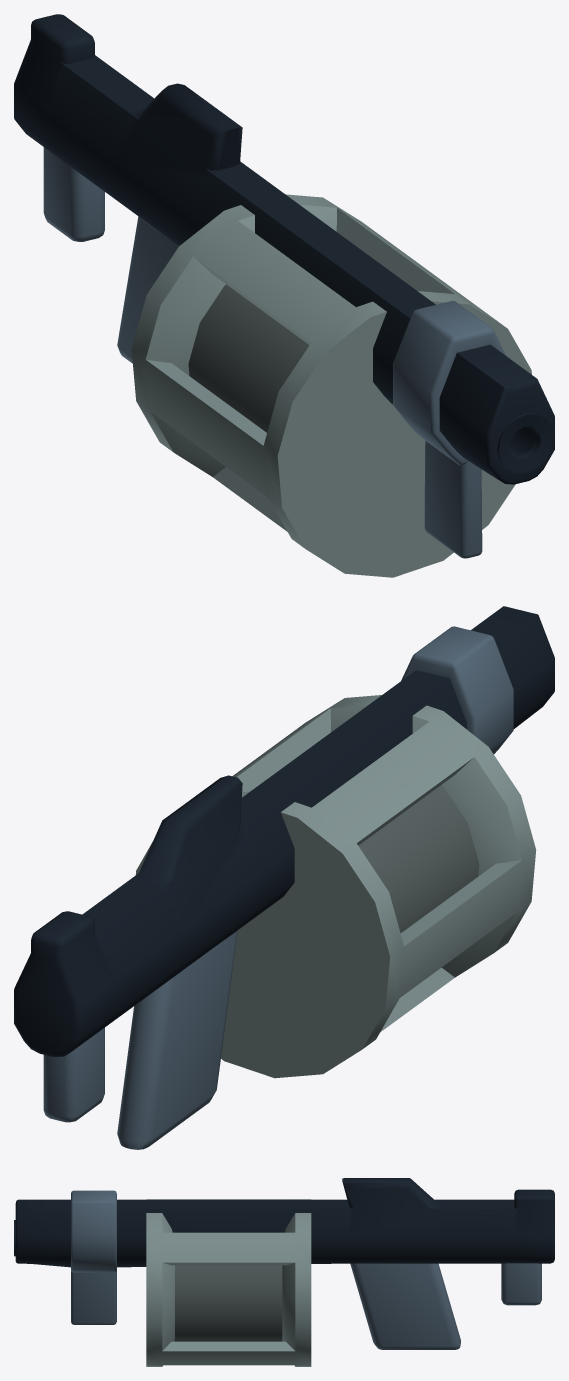
File: Grenade_Launcher.fbx
3 renders of one model, top to bottom at view 1: azimuth 30°, elevation 25°; view 2: azimuth 150°, elevation 25°; view 3: azimuth 270°, elevation 25°, orthographic. The views are drawn at different scales.
Parts seen in each view (by area): view 1: Cube.007, Cube; view 2: Cube, Cube.007; view 3: Cube, Cube.007.
Boxes of the visible parts, <box> form: Cube.007: <box>131,194,531,577</box>; Cube: <box>14,14,554,558</box>; Cube: <box>14,606,554,1149</box>; Cube.007: <box>135,695,536,1078</box>; Cube: <box>14,1178,554,1349</box>; Cube.007: <box>146,1199,311,1366</box>.
Bounding box in the file's own units: 44.55 × 52.41 × 143.
